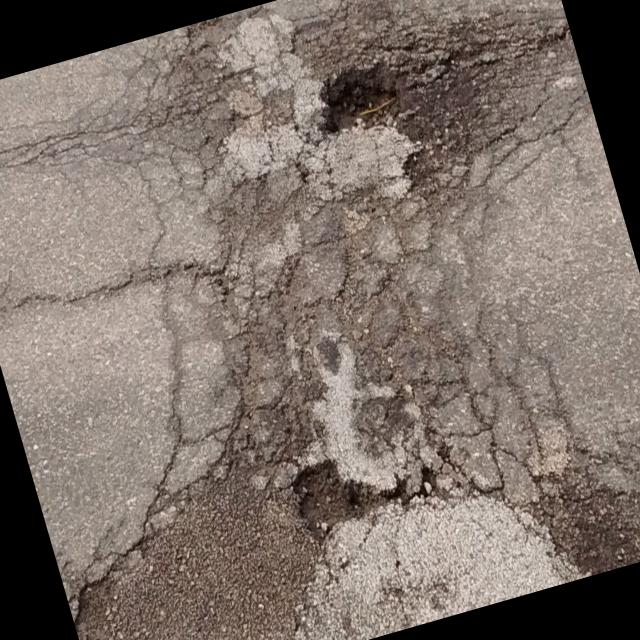Potholes: (291, 0, 614, 263), (453, 374, 640, 600), (220, 391, 416, 587)
